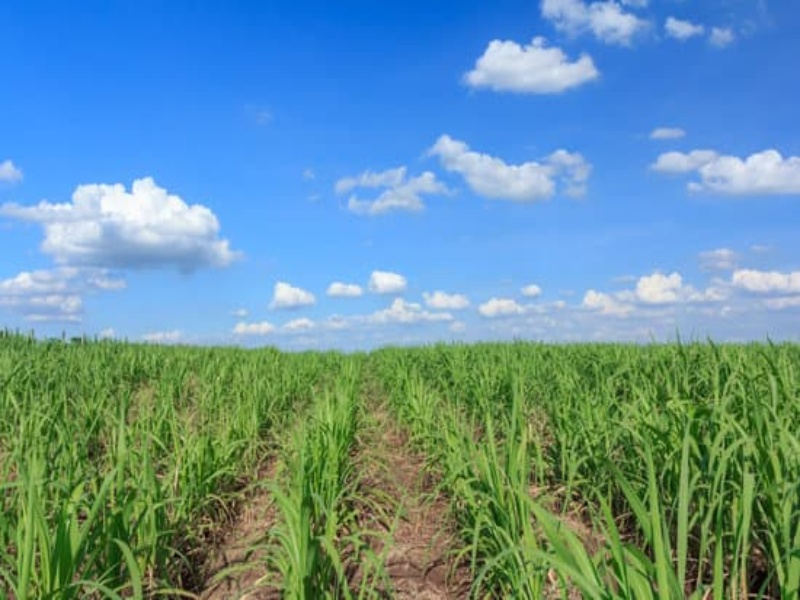sugarcane: (529, 334, 781, 531), (1, 392, 187, 596), (564, 411, 756, 598), (433, 394, 578, 596), (265, 413, 364, 595)
